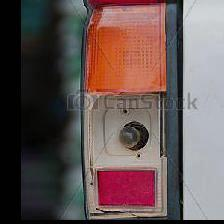tail_lamp: (86, 71, 165, 220)
